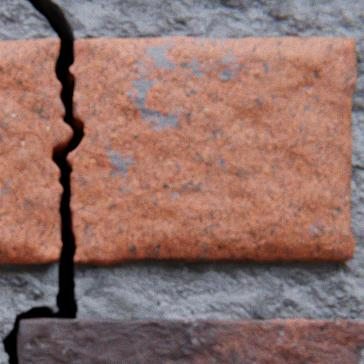brick: (18, 318, 363, 363)
broken_brick: (66, 38, 355, 264), (0, 39, 71, 264)
crack: (1, 0, 84, 363)
